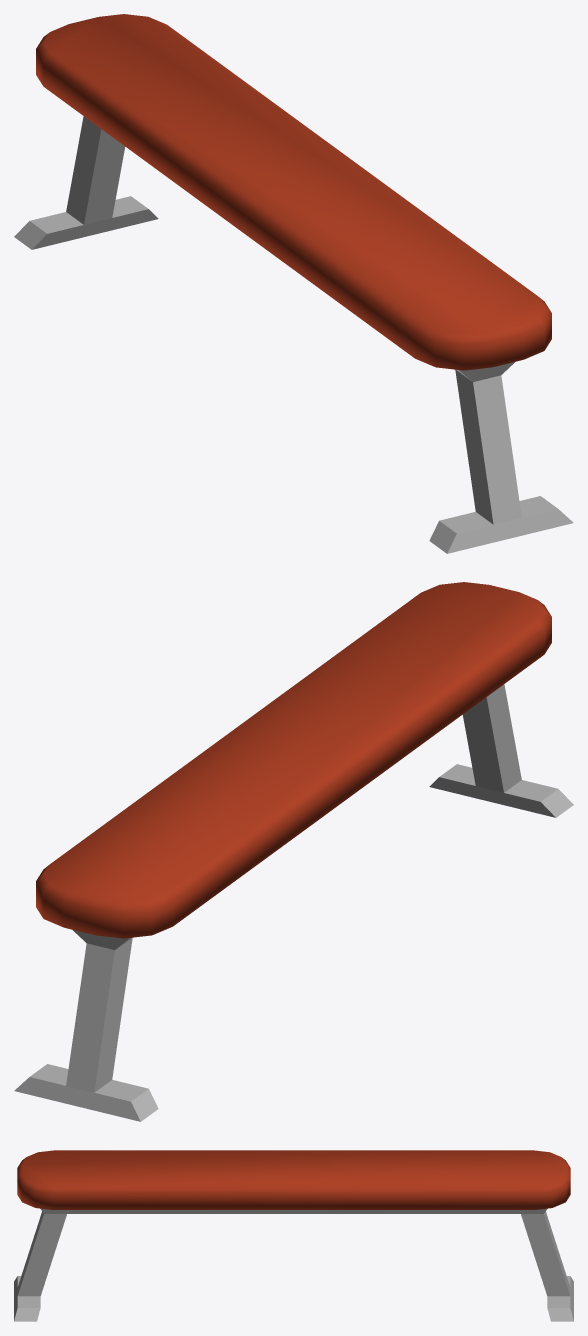
File: bench_2.glb
The picture shows the model from 3 angles, top to bottom: view 1: azimuth 30°, elevation 25°; view 2: azimuth 150°, elevation 25°; view 3: azimuth 270°, elevation 25°; orthographic projection. The views are drawn at different scales.
Visible parts, largest first — view 1: Bench_B; view 2: Bench_B; view 3: Bench_B.
Boxes of the visible parts, bbox=[...] form: Bench_B: bbox=[14, 14, 573, 553]; Bench_B: bbox=[14, 582, 573, 1121]; Bench_B: bbox=[14, 1150, 573, 1321].
Bounding box in the file's own units: 0.3296 × 0.4999 × 1.91.
1 material, 1 textured.
